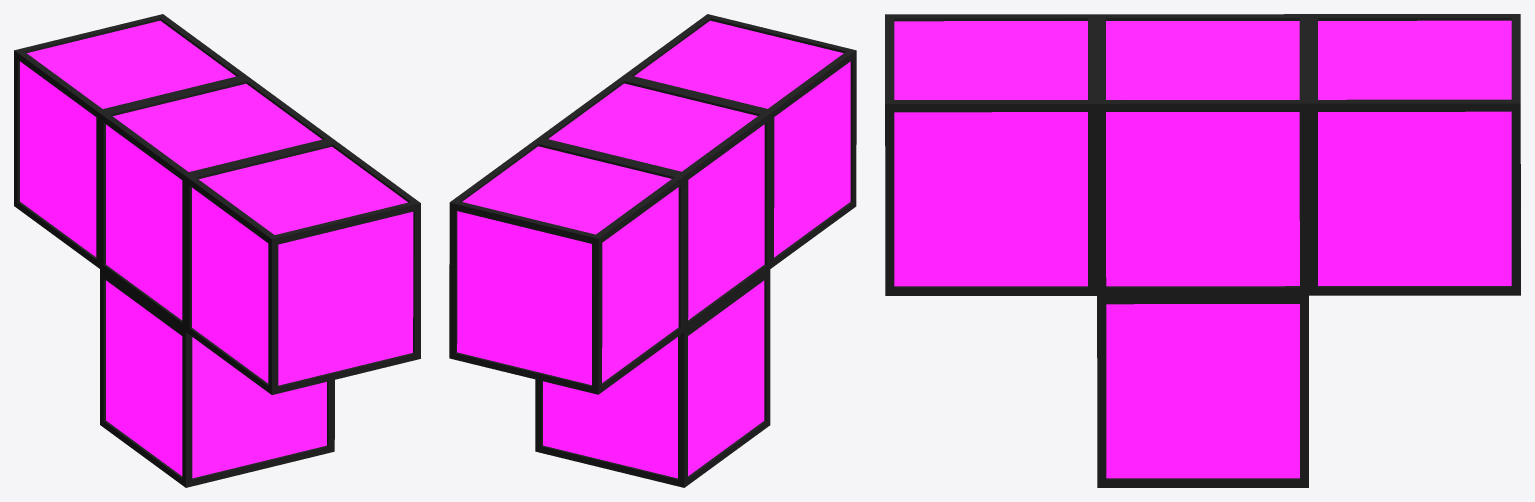
The model's file is teewee.fbx.
3 renders of one model, left to right at view 1: azimuth 30°, elevation 25°; view 2: azimuth 150°, elevation 25°; view 3: azimuth 270°, elevation 25°, orthographic. The views are drawn at different scales.
Visible parts, largest first — view 1: Teewee.002; view 2: Teewee.002; view 3: Teewee.002.
Part boxes in pixels (left/top/right/bottom): Teewee.002: left=14, top=14, right=420, bottom=487; Teewee.002: left=449, top=14, right=856, bottom=487; Teewee.002: left=885, top=14, right=1520, bottom=487.
Size of the model in its own units: 39.44 by 78.96 by 118.
